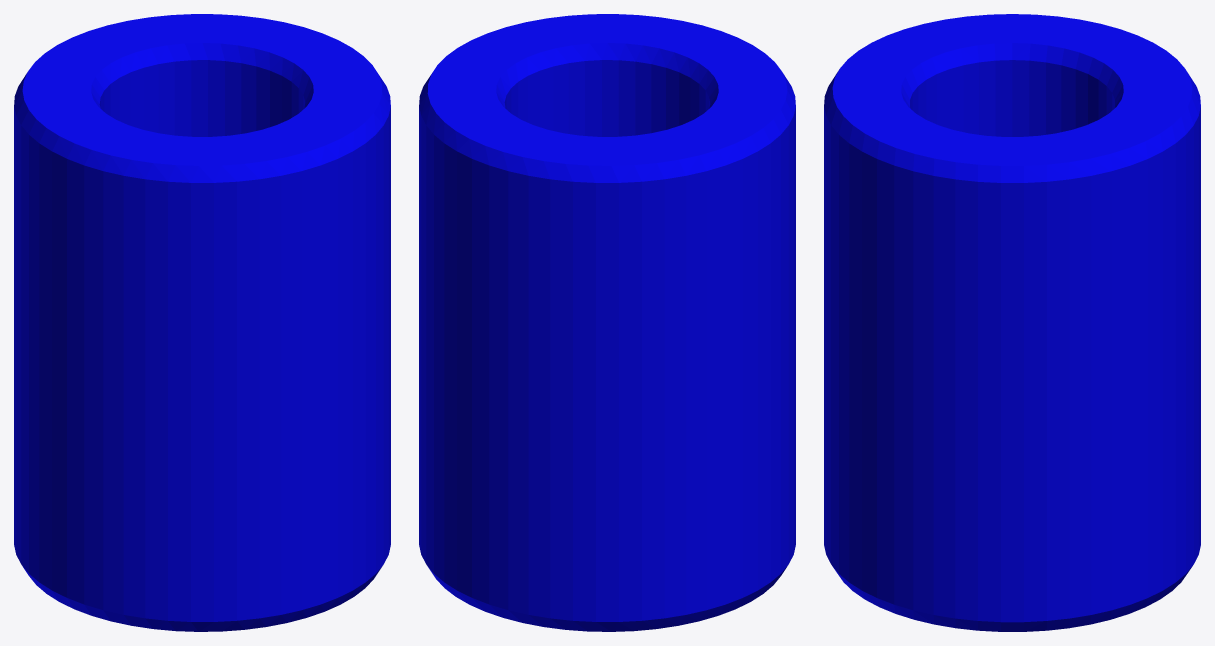
File: hengeres_babu_kek.dae
The picture shows the model from 3 angles, left to right: view 1: azimuth 30°, elevation 25°; view 2: azimuth 150°, elevation 25°; view 3: azimuth 270°, elevation 25°; orthographic projection.
Parts seen in each view (by area): view 1: hengeres_babu; view 2: hengeres_babu; view 3: hengeres_babu.
Part boxes in pixels (x1=…): hengeres_babu: x1=14, y1=14, x2=390, y2=631; hengeres_babu: x1=419, y1=14, x2=795, y2=631; hengeres_babu: x1=824, y1=14, x2=1200, y2=631.
Bounding box in the file's own units: 0.022 × 0.022 × 0.03.
